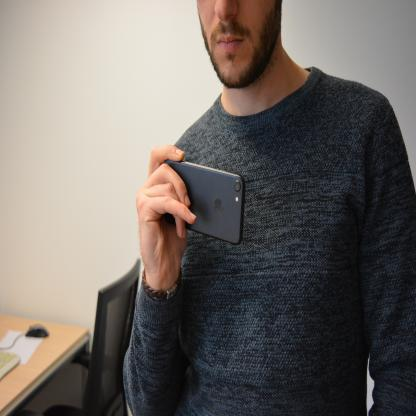smartphone: (160, 156, 245, 245)
